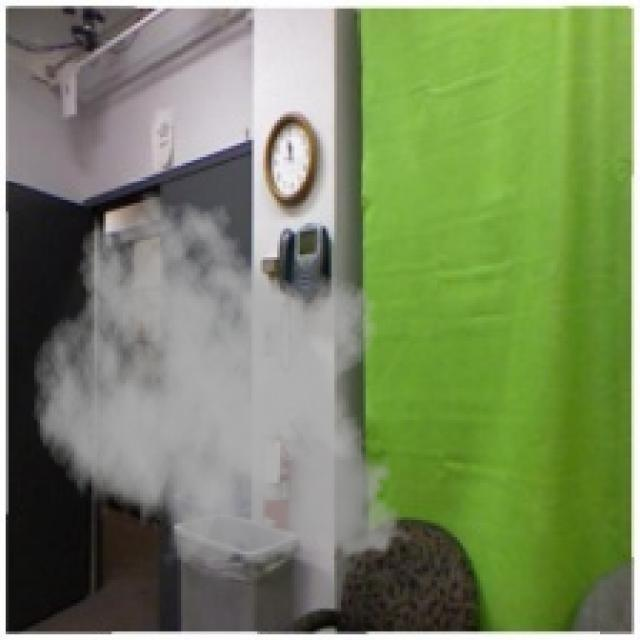Smoke: (32, 188, 417, 580)
